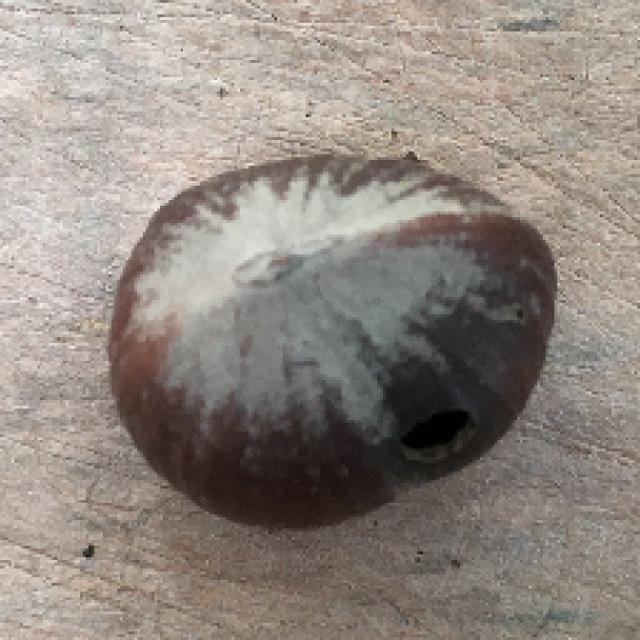damagedHazelnut: (98, 148, 562, 538)
